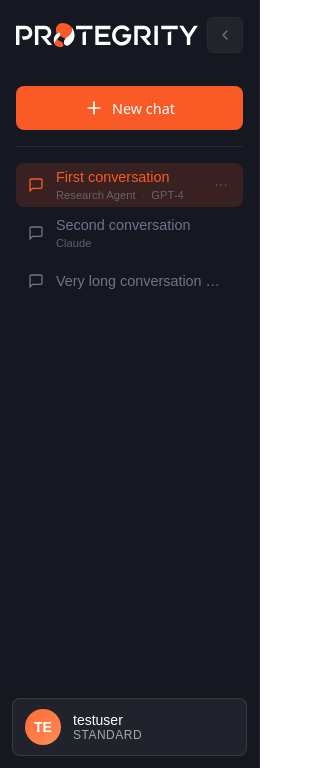
Test: Sidebar Component › Menu Actions › closes menu when clicking delete
The width and height of the screenshot is (320, 768).
Click the button with class "conversation-menu-btn": (221, 185) [207,171,235,199]
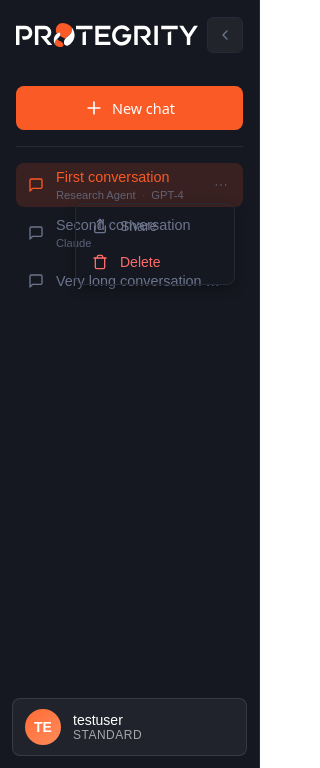
Check: the text "Delete" is shown, box [120,254,160,270]
Note: Click delete
Click the button "Delete": (155, 262) [80,244,230,280]
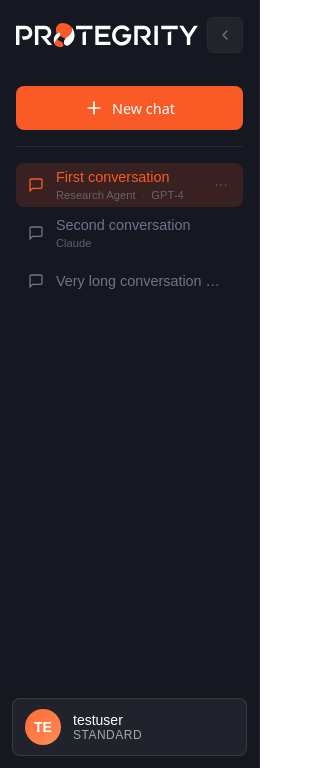
Check: the button "Delete" is gone
